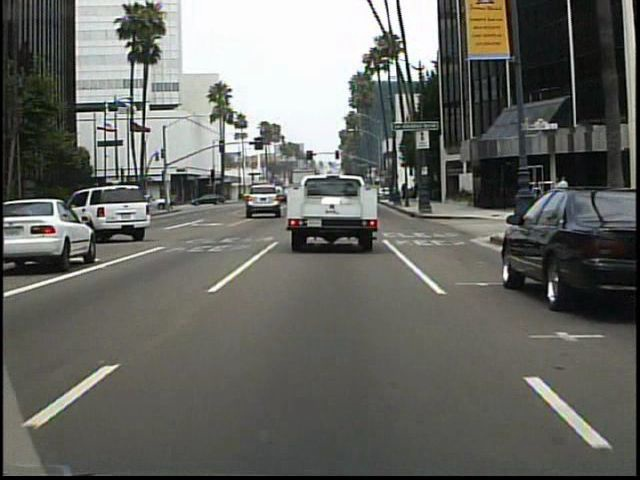person: (556, 172, 572, 213), (171, 190, 172, 213)
